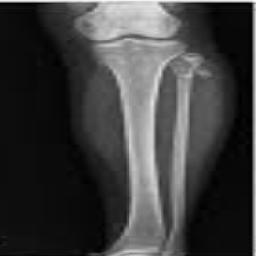cancer: (167, 58, 214, 78)
